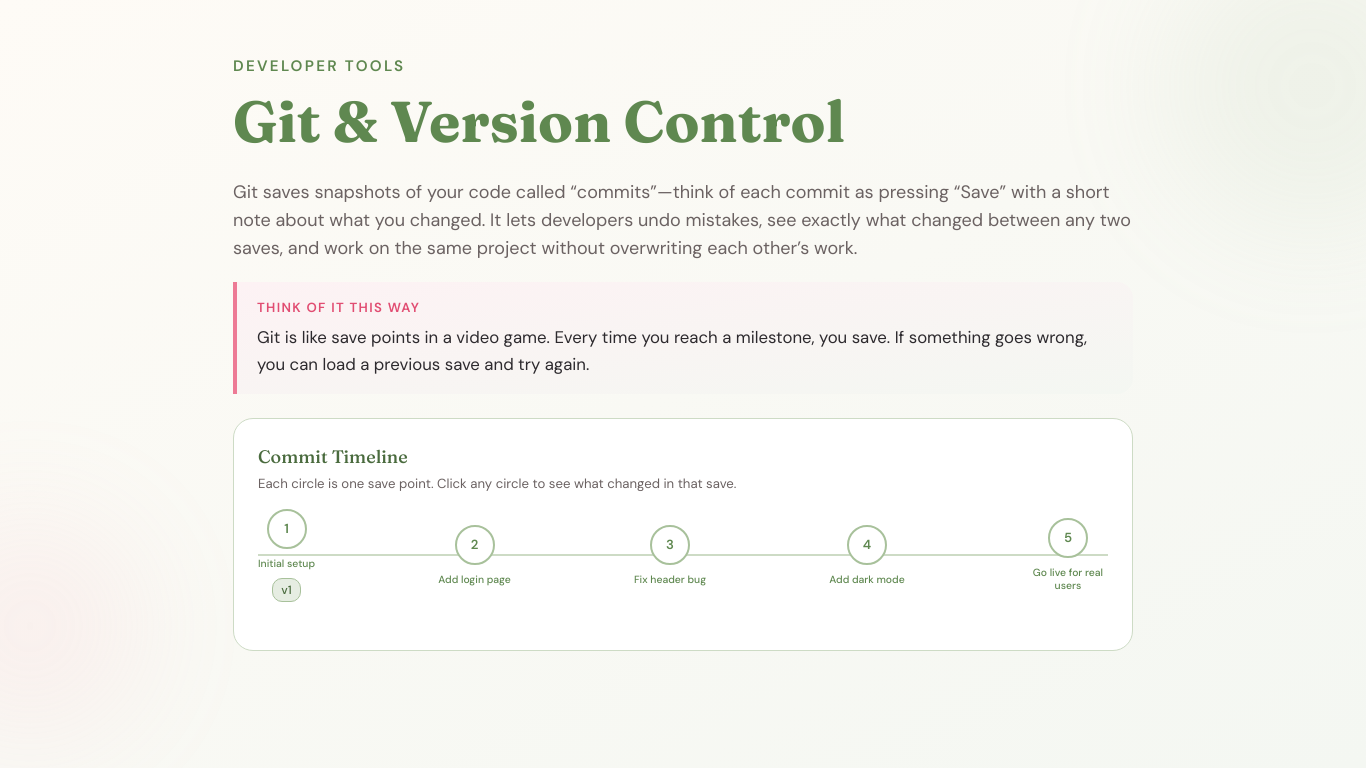
Test: GitSlide › shows diff when clicking a commit node
This screenshot has width=1366, height=768.
Click the button with test id "commit-node-2" at x=670, y=555, box [634, 525, 706, 586]
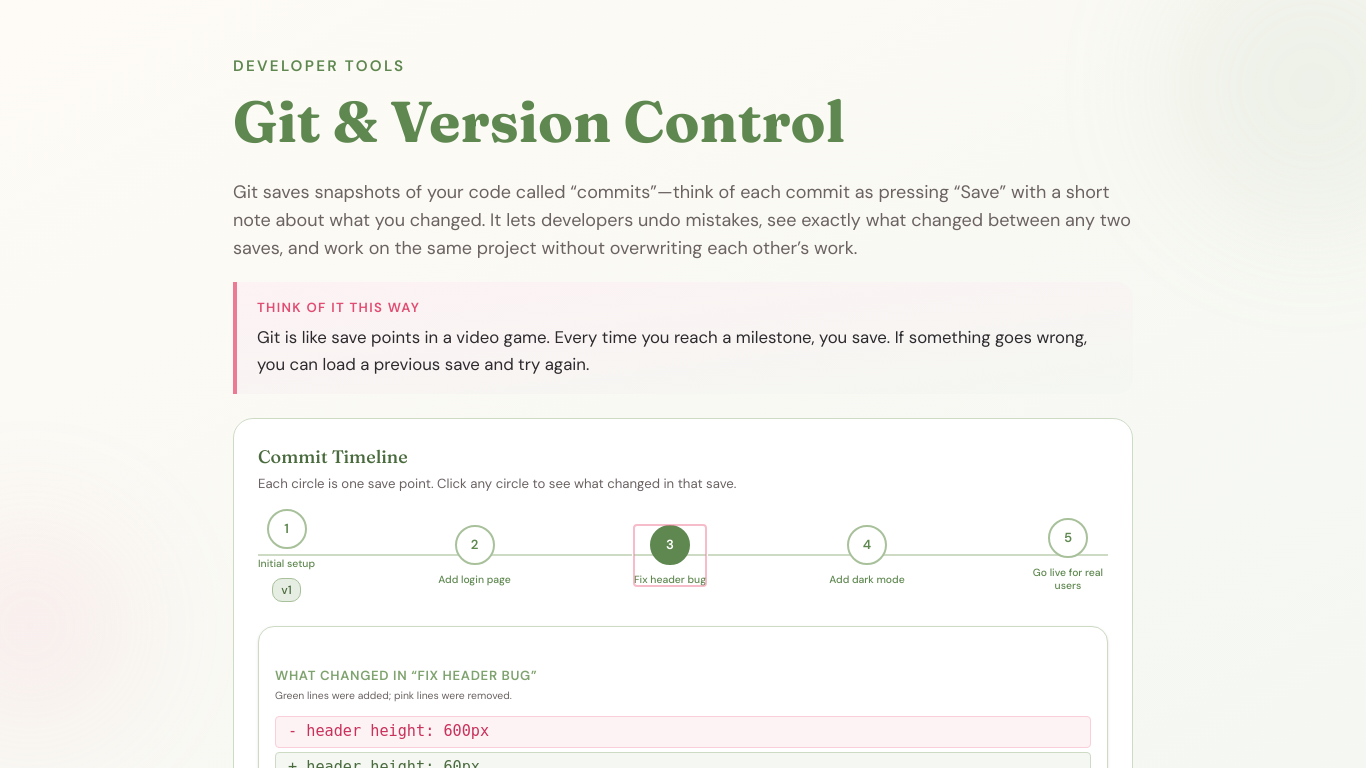
Result: the element with test id "diff-view" is shown at [258, 626, 1108, 767]
Result: the text "- header height: 600px" is shown at [275, 716, 1091, 748]
